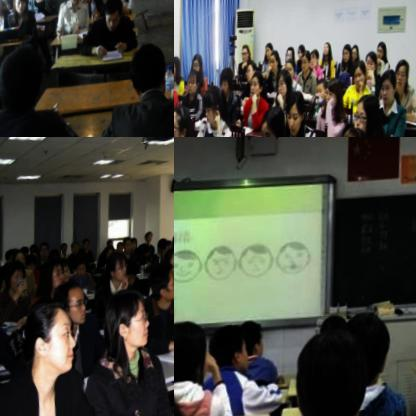head: (286, 326, 375, 416), (340, 308, 401, 394), (20, 298, 81, 380), (103, 291, 157, 360), (0, 43, 49, 114), (174, 318, 211, 389), (207, 321, 253, 378), (129, 40, 173, 96), (55, 278, 95, 329), (236, 316, 268, 361), (202, 81, 230, 130), (353, 96, 386, 137), (282, 91, 310, 137), (150, 258, 174, 307), (255, 104, 290, 137), (42, 258, 69, 295), (4, 259, 31, 295), (102, 0, 126, 37), (107, 252, 133, 285), (325, 77, 346, 114), (174, 101, 194, 137), (381, 71, 399, 109), (219, 66, 238, 100), (353, 60, 371, 95), (276, 69, 295, 102), (248, 69, 266, 101), (124, 258, 142, 289), (395, 60, 412, 91), (362, 53, 380, 81), (186, 71, 202, 100), (75, 254, 92, 278), (59, 257, 74, 283), (315, 80, 330, 105), (245, 60, 260, 84), (190, 52, 204, 77), (283, 60, 298, 82), (12, 247, 28, 267), (300, 52, 313, 76), (269, 53, 283, 75), (26, 250, 40, 272), (309, 47, 321, 71), (12, 0, 30, 15), (155, 236, 170, 254), (375, 44, 388, 64), (161, 240, 174, 260), (165, 248, 174, 274), (241, 46, 253, 65), (285, 46, 297, 65), (39, 242, 51, 261), (143, 242, 155, 260), (342, 46, 353, 65), (265, 43, 275, 63), (351, 44, 361, 64), (297, 44, 308, 62), (174, 55, 182, 78), (124, 235, 134, 253), (71, 238, 81, 256), (322, 41, 332, 58), (106, 246, 117, 261), (67, 0, 87, 8), (6, 248, 17, 262), (61, 240, 71, 254), (83, 237, 92, 252), (145, 230, 155, 243), (33, 247, 42, 261), (4, 0, 17, 9), (131, 238, 140, 251), (118, 241, 125, 256), (0, 0, 6, 16), (107, 237, 114, 249)
